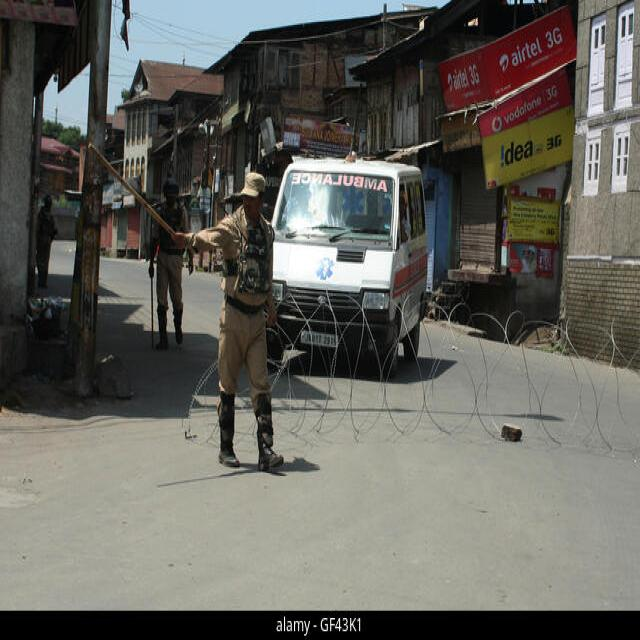emergency: (272, 159, 428, 374)
